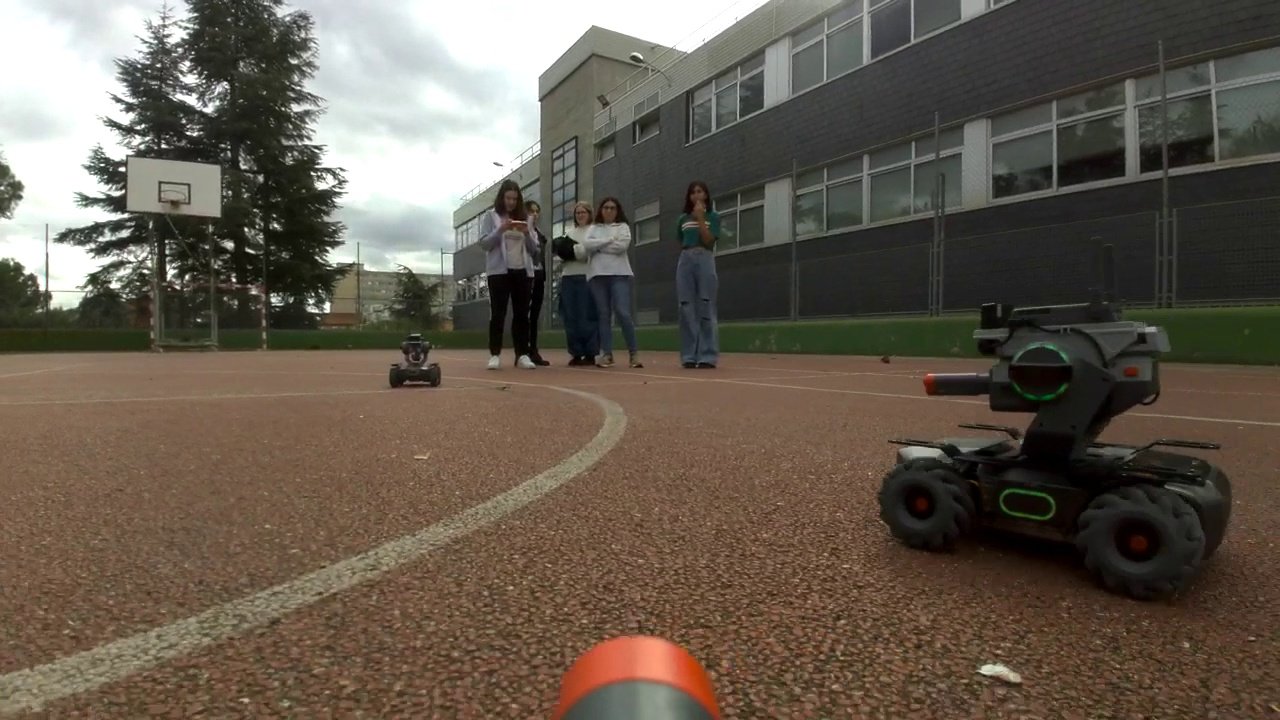robot: (876, 299, 1234, 598), (389, 332, 440, 388)
